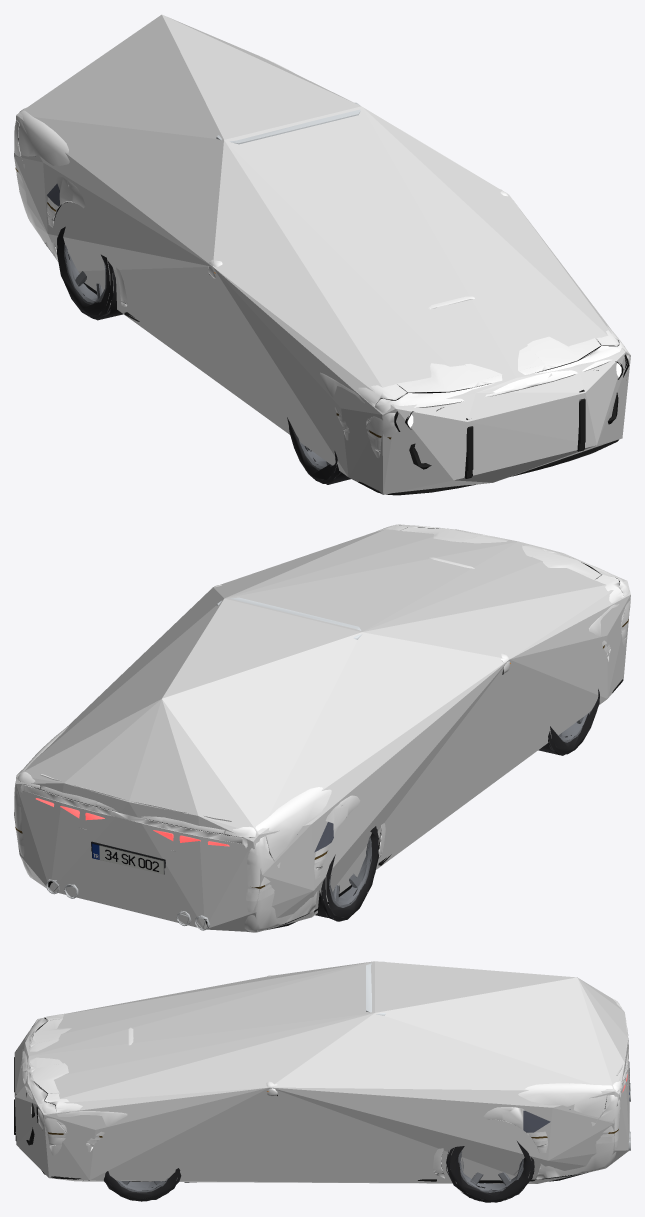
File: police_interceptor_lod1.glb
3 renders of one model, top to bottom at view 1: azimuth 30°, elevation 25°; view 2: azimuth 150°, elevation 25°; view 3: azimuth 270°, elevation 25°, orthographic. The views are drawn at different scales.
Parts seen in each view (by area): view 1: col_body, body, trim, wheel_RR, wheel_FR; view 2: col_body, body, wheel_RR, trim, wheel_FR, plate_rear, lights_rear; view 3: col_body, body, wheel_RL, trim, wheel_FL.
Boxes of the visible parts, bbox=[...] form: col_body: bbox=[14, 14, 630, 494]; body: bbox=[14, 54, 629, 458]; trim: bbox=[15, 102, 629, 495]; wheel_RR: bbox=[57, 226, 123, 320]; wheel_FR: bbox=[287, 417, 350, 484]; col_body: bbox=[14, 524, 630, 932]; body: bbox=[14, 524, 630, 932]; wheel_RR: bbox=[315, 826, 378, 921]; trim: bbox=[15, 527, 628, 929]; wheel_FR: bbox=[538, 689, 599, 755]; plate_rear: bbox=[91, 843, 164, 874]; lights_rear: bbox=[35, 798, 229, 846]; col_body: bbox=[14, 961, 629, 1183]; body: bbox=[21, 975, 628, 1179]; wheel_RL: bbox=[446, 1141, 534, 1202]; trim: bbox=[14, 961, 629, 1183]; wheel_FL: bbox=[104, 1168, 181, 1201].
Size of the model in its own units: 2.11 by 1.56 by 4.93.
12 materials, 1 textured.
